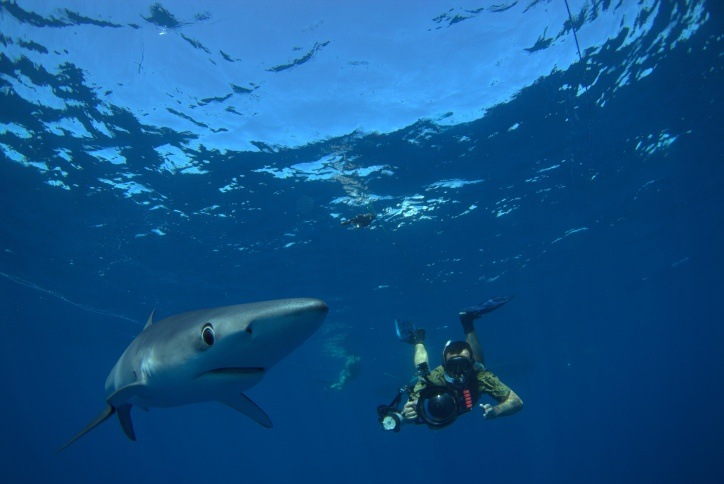Azul: (31, 278, 344, 454)
